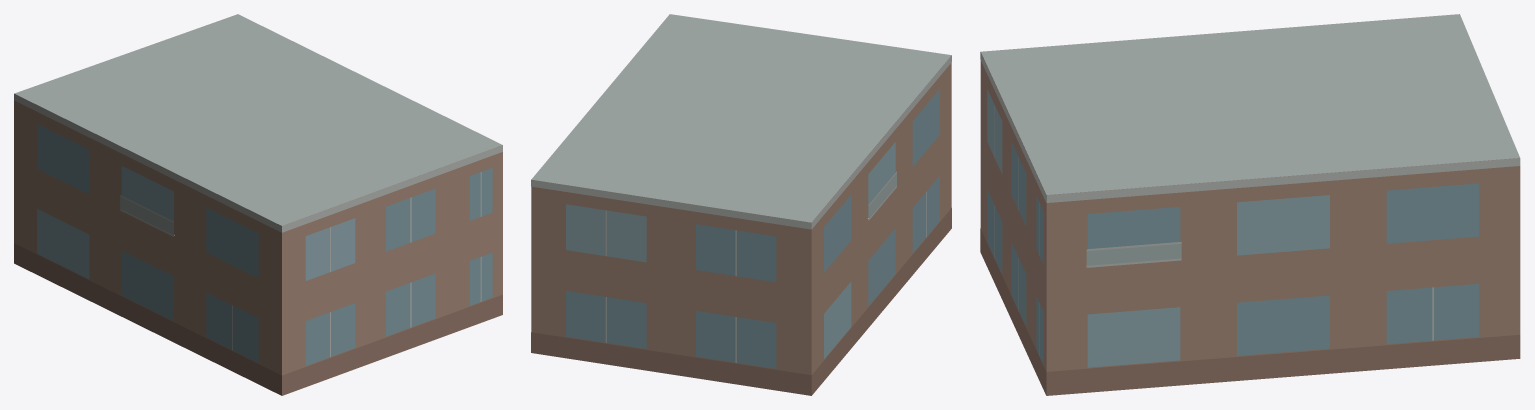
Rendered from survey-upis-32707343.glb.
The picture shows the model from 3 angles, left to right: view 1: azimuth 30°, elevation 25°; view 2: azimuth 150°, elevation 25°; view 3: azimuth 270°, elevation 25°; orthographic projection. The views are drawn at different scales.
Visible parts, largest first — view 1: survey-upis-32707343.tmp; view 2: survey-upis-32707343.tmp; view 3: survey-upis-32707343.tmp.
Boxes of the visible parts, bbox=[...] form: survey-upis-32707343.tmp: bbox=[14, 14, 502, 395]; survey-upis-32707343.tmp: bbox=[531, 14, 951, 395]; survey-upis-32707343.tmp: bbox=[980, 14, 1520, 395].
Size of the model in its own units: 11.81 by 6.1 by 14.87.
